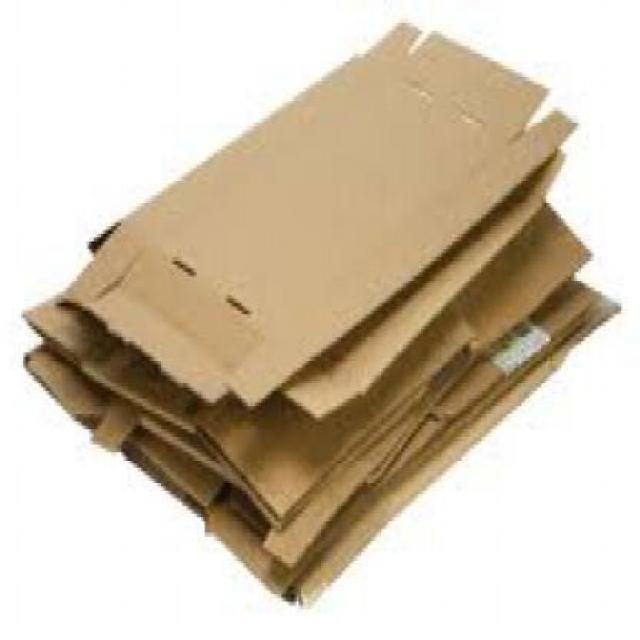box: (23, 105, 595, 560), (69, 17, 582, 411), (22, 277, 623, 609)
